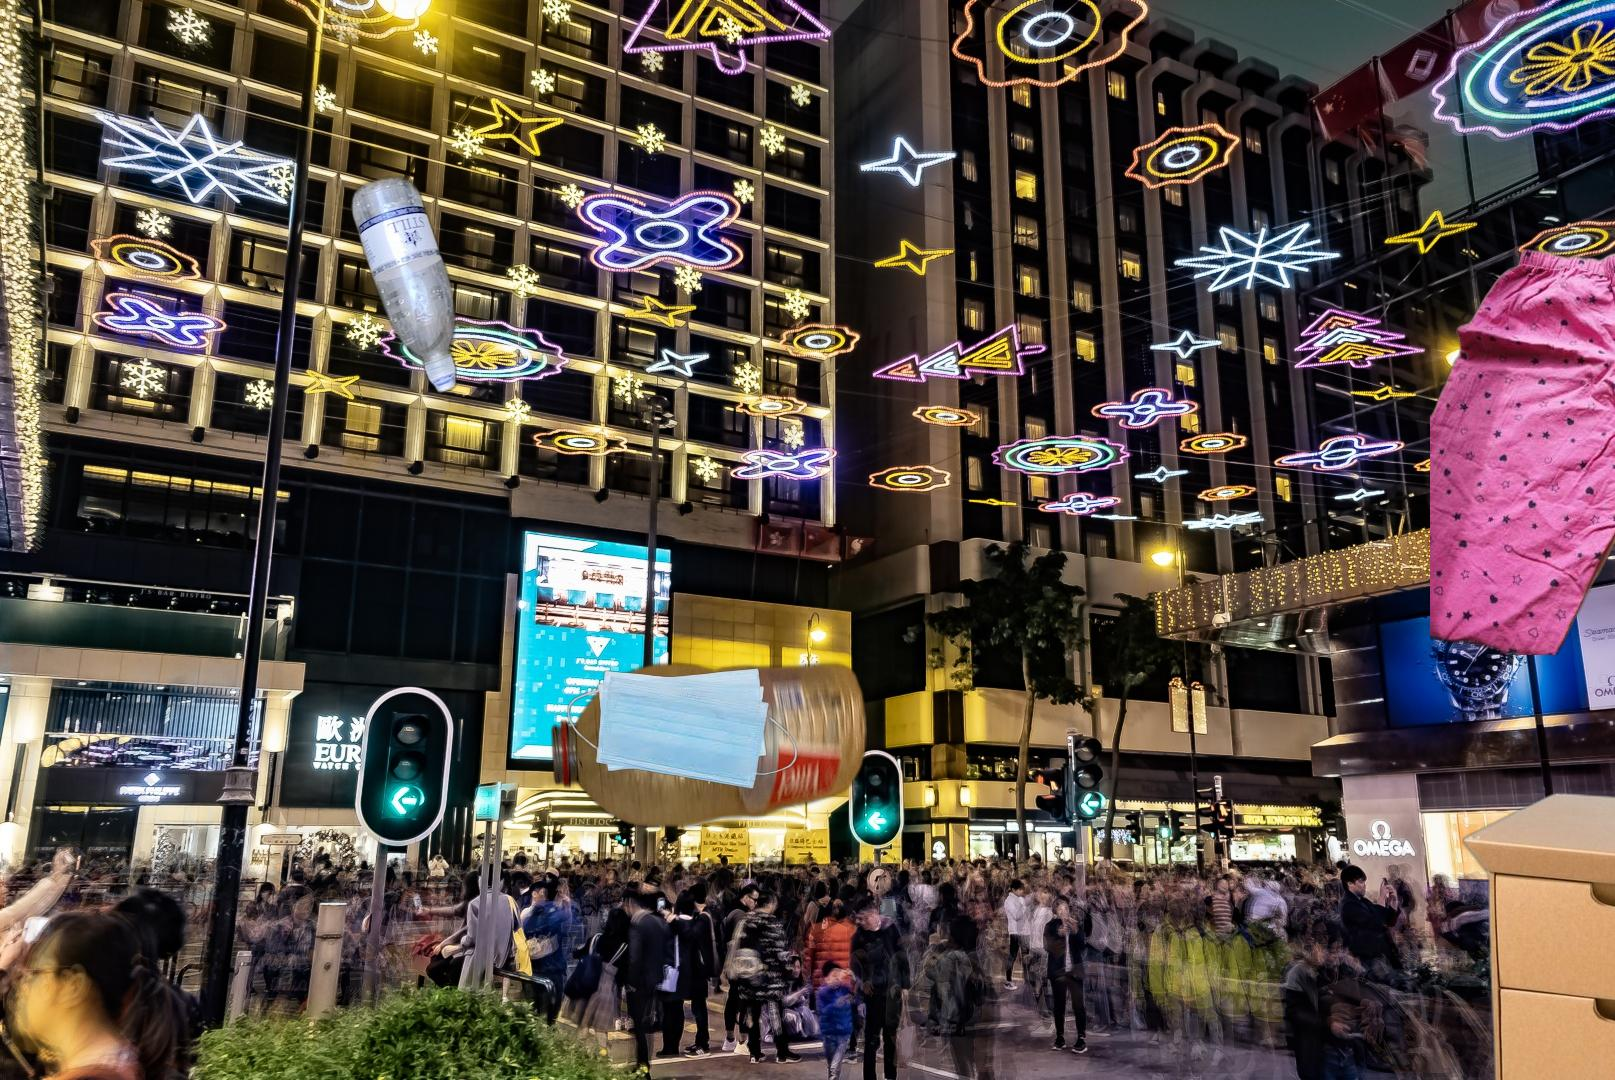clothes: (1431, 215, 1615, 655)
paper-bag: (348, 1075, 583, 1080)
plastic-bottles: (550, 658, 867, 832), (347, 170, 460, 399)
trash: (565, 665, 800, 792)
trashbox-cardboard: (1452, 788, 1615, 1080)
